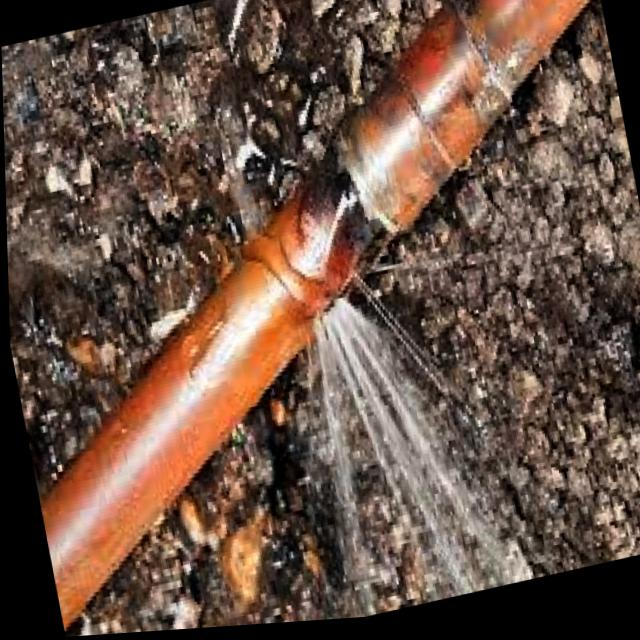leak: (315, 299, 532, 617)
